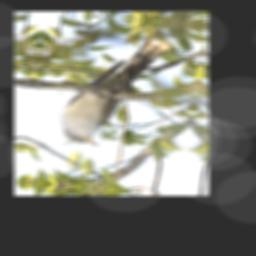Cuckoo: (56, 31, 172, 151)
